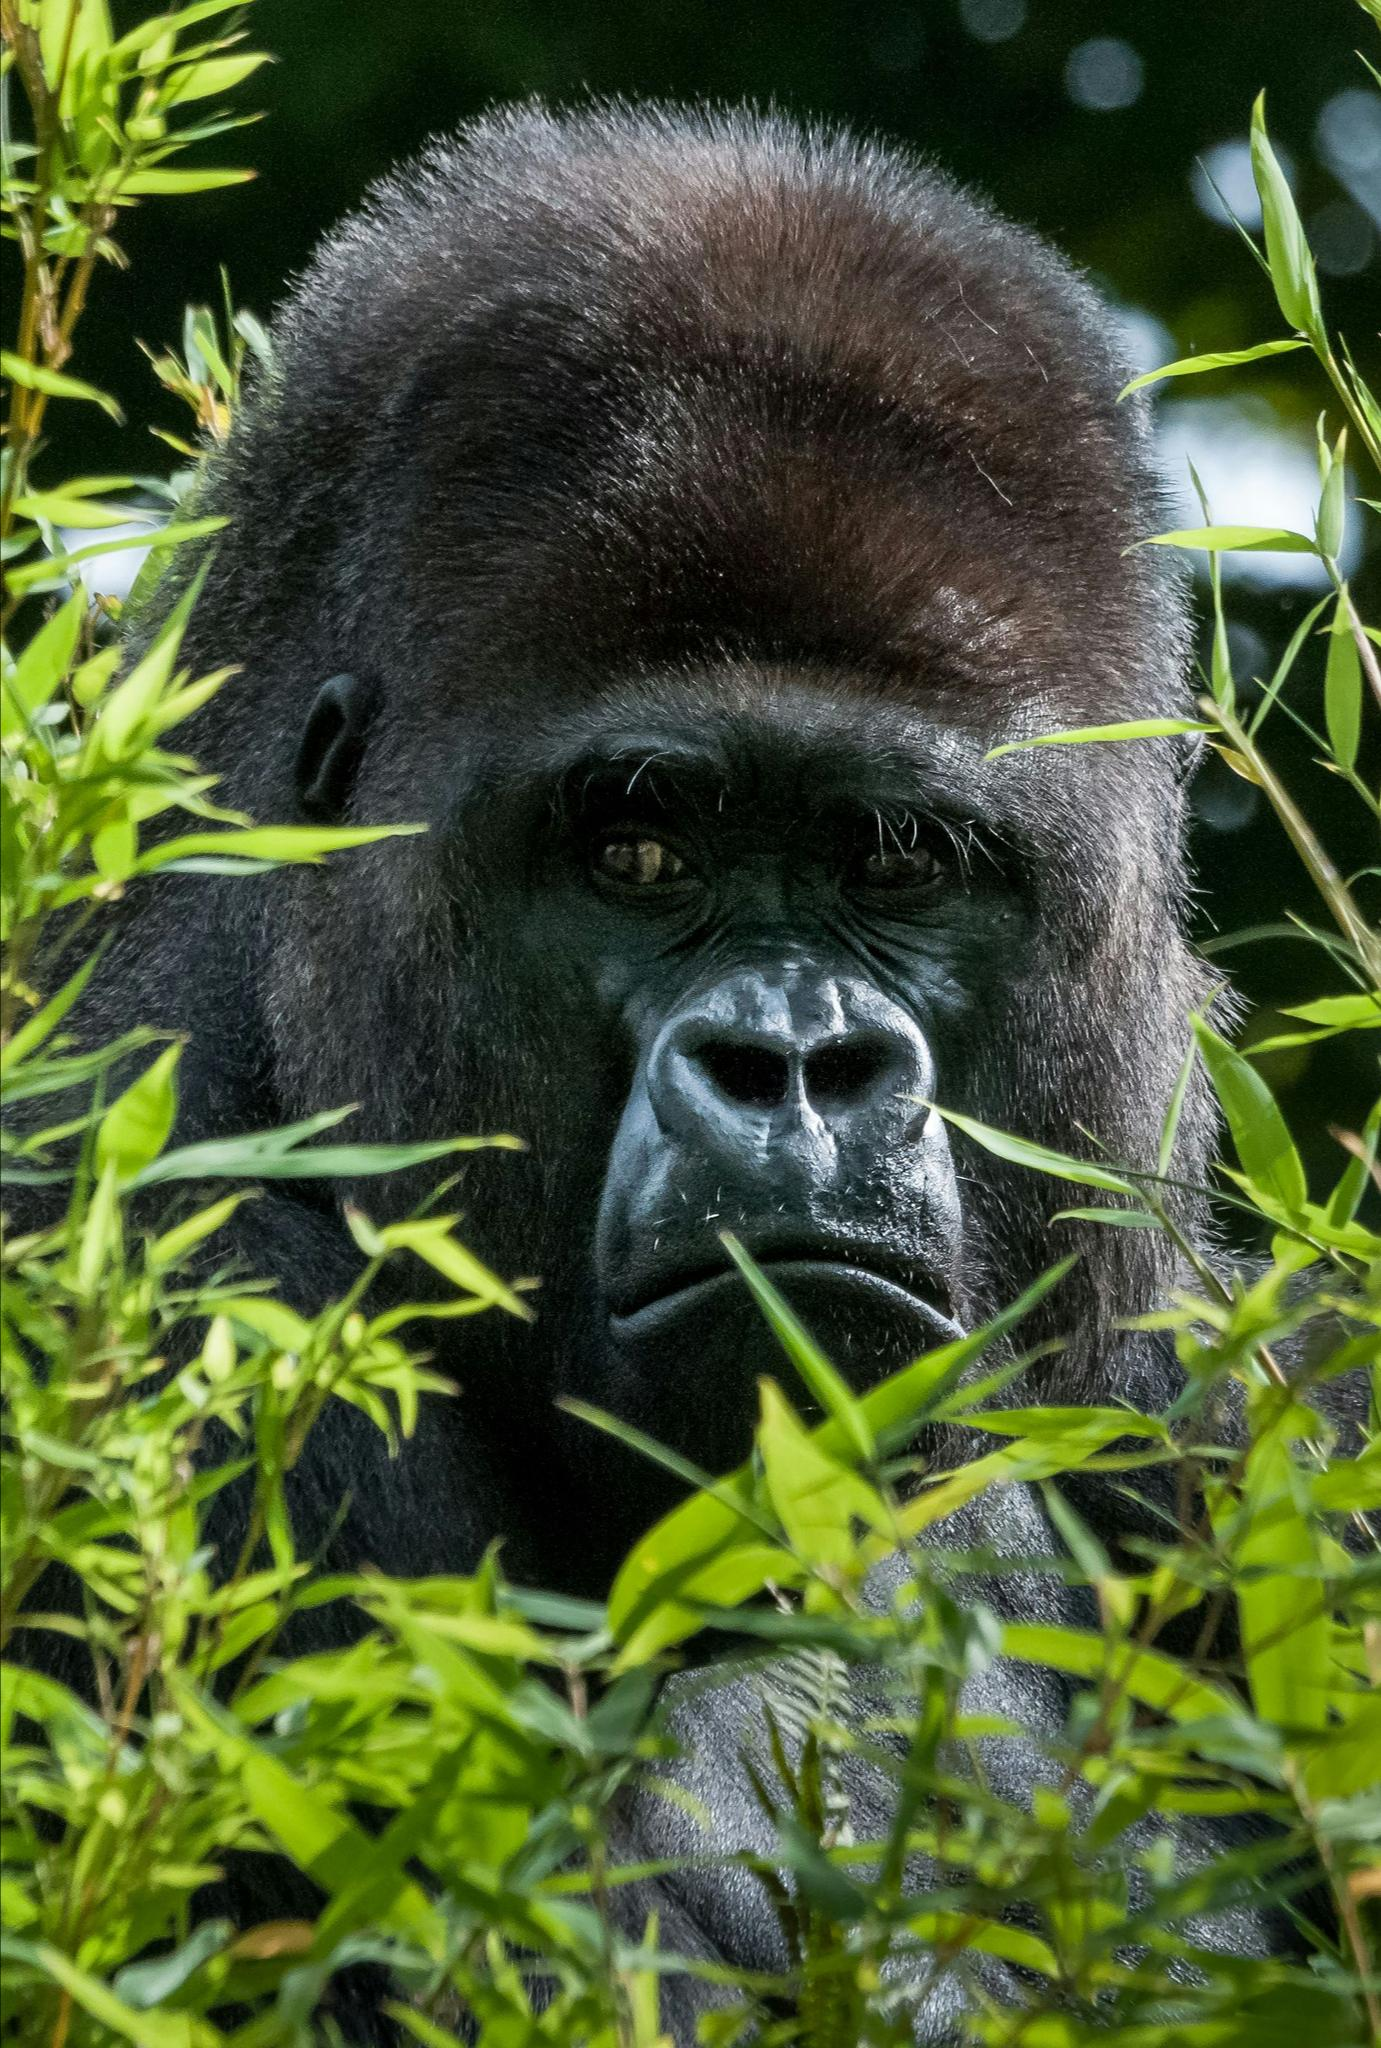gorille_Autres: (9, 0, 1381, 1969)
